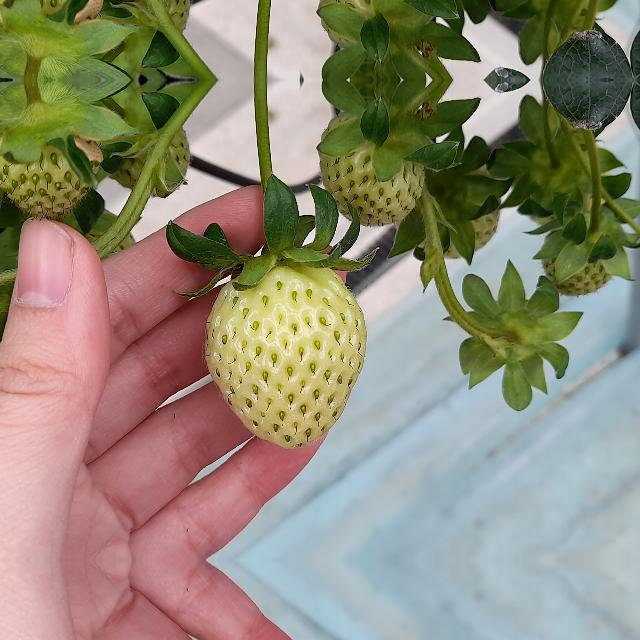Health_25: (204, 265, 366, 449), (315, 106, 427, 228), (0, 116, 96, 217), (315, 0, 427, 54), (0, 0, 96, 43)
